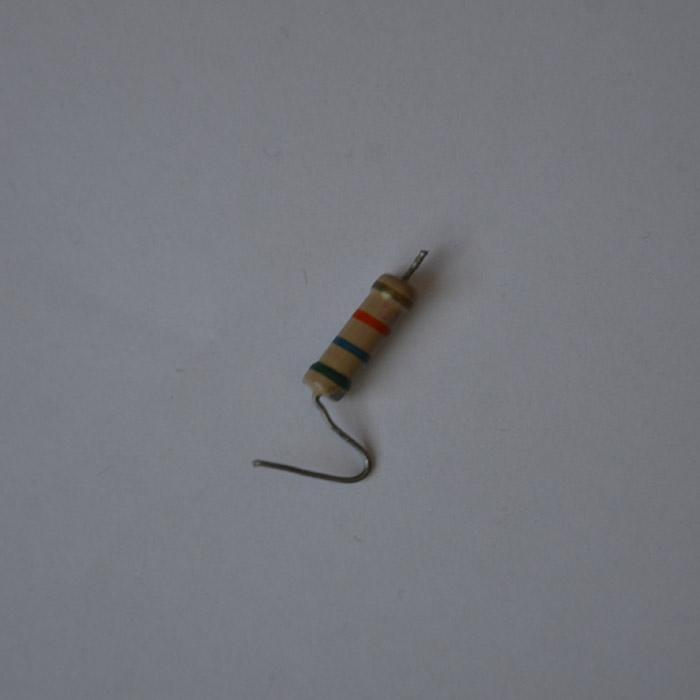resistor: (300, 271, 418, 408)
